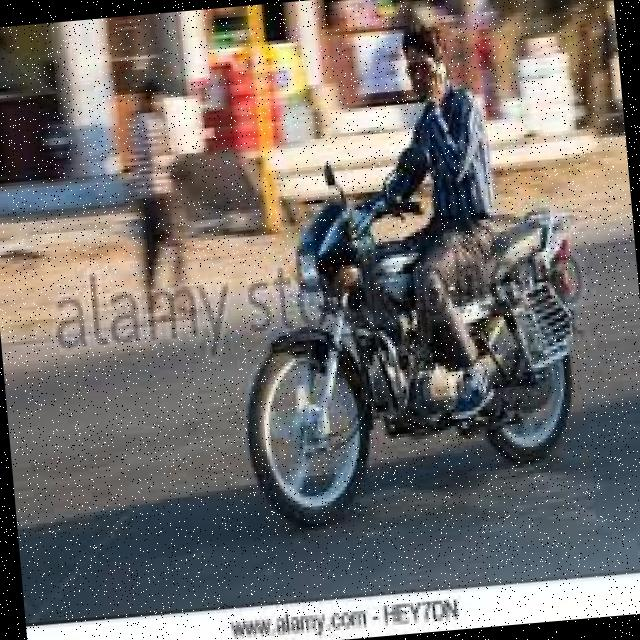Using mobile: (383, 12, 496, 145)
